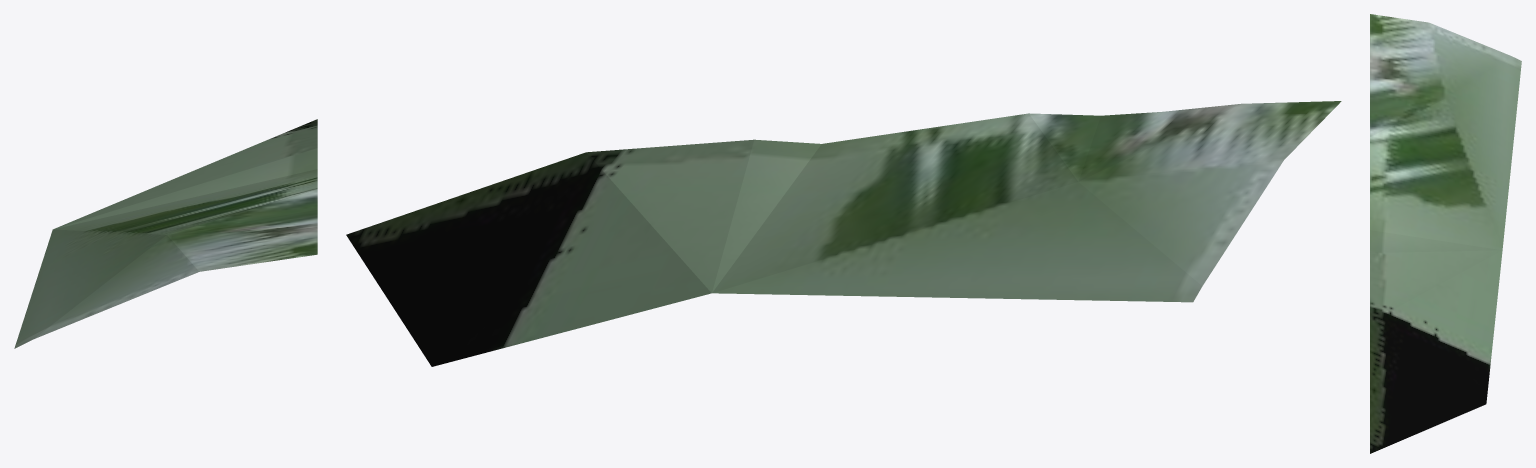
3 renders of one model, left to right at view 1: azimuth 90°, elevation 25°; view 2: azimuth 150°, elevation 25°; view 3: azimuth 270°, elevation 25°, orthographic. The views are drawn at different scales.
Bounding box in the file's own units: 2.34 × 0.8478 × 0.6068.
1 material, 1 textured.
